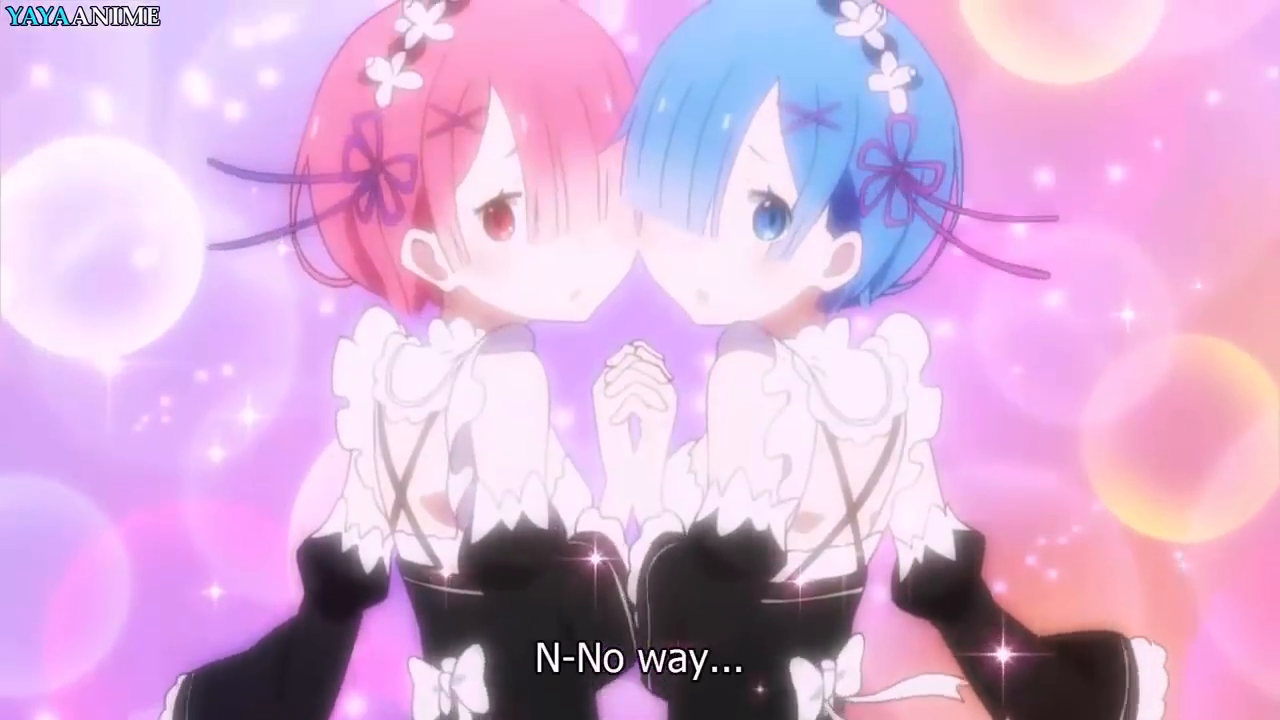REM: (619, 2, 961, 328)
